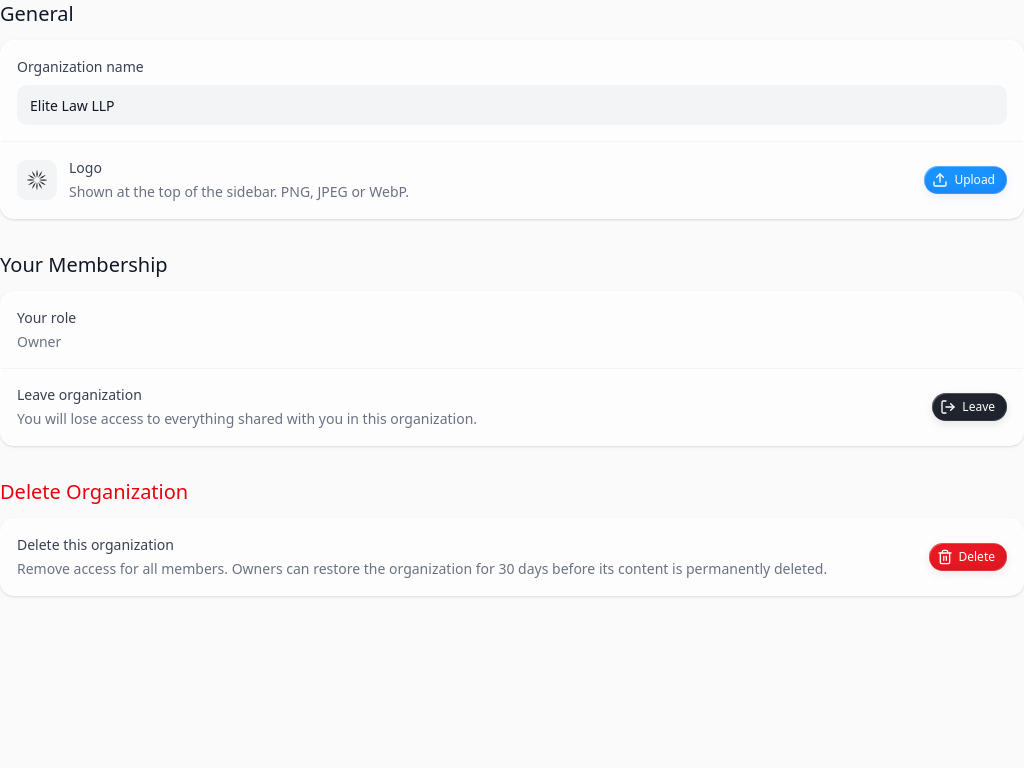
Test: leaving › says why the last owner cannot leave, and stays put
Click the button named "Leave" in the row of "Leave organization": (970, 407) [932,393,1007,421]
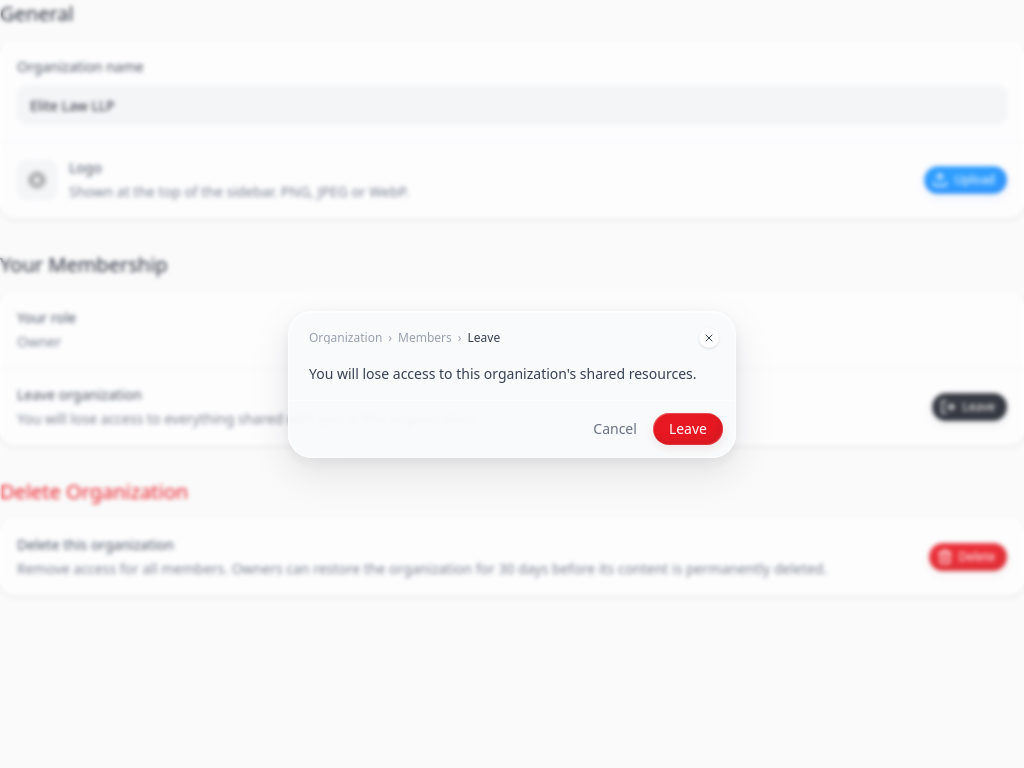
Check: the button named "Leave" is enabled
Click the button named "Leave": (688, 428) [653,412,723,444]
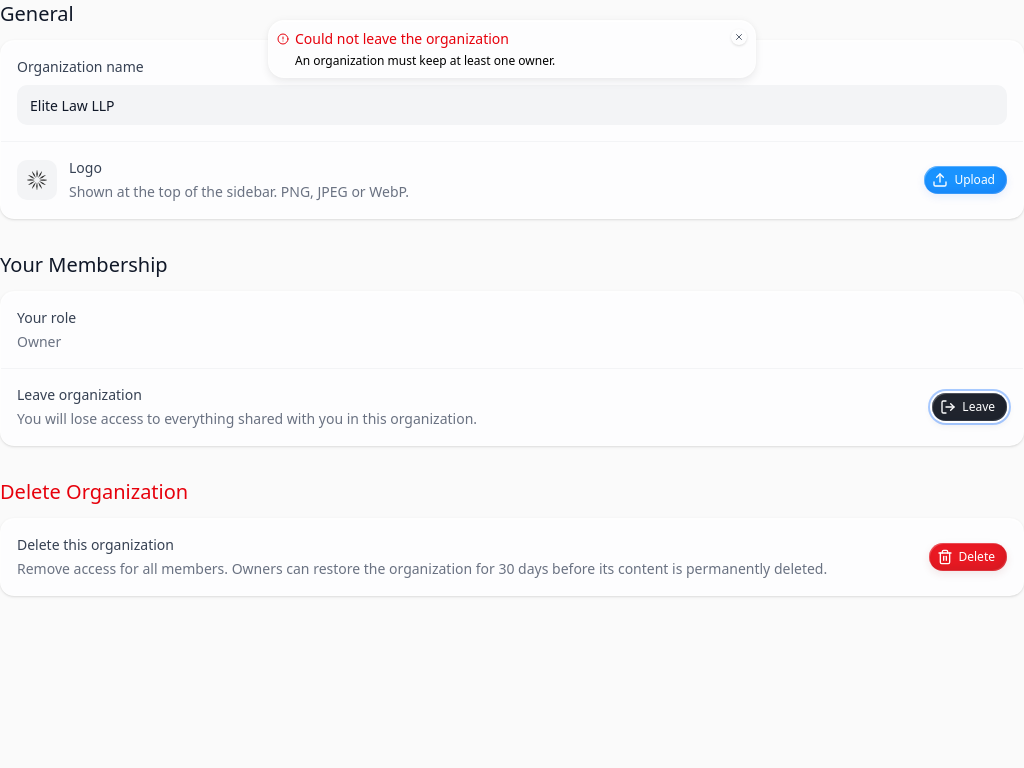
Check: the text "Could not leave the organization" is shown, box [295,29,509,48]
Check: the text "An organization must keep at least one owner." is shown, box [295,52,555,69]
Check: the text "You will lose access to this organization's shared resources." is gone
